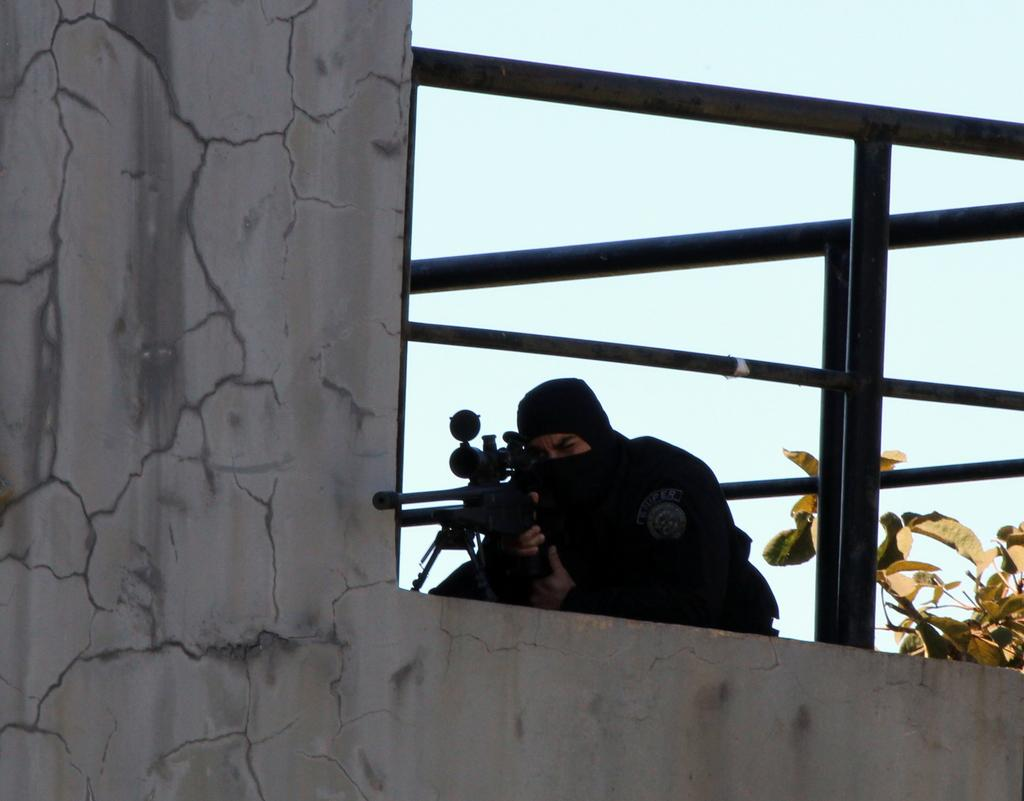Rifle: (380, 417, 594, 605)
